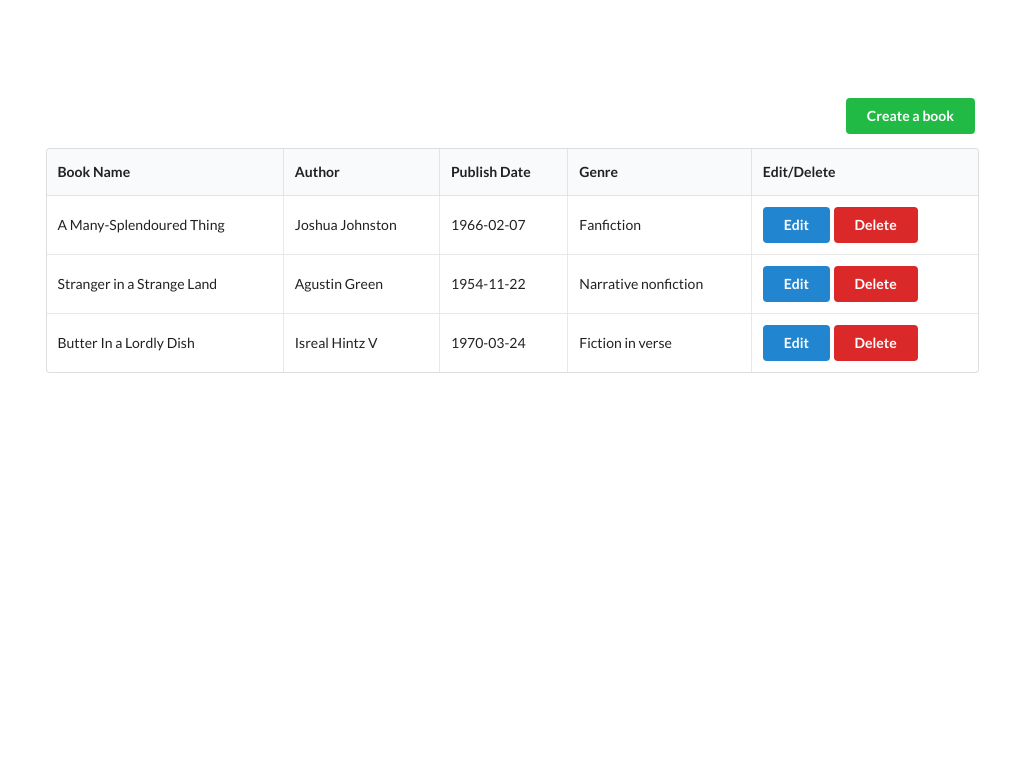
Test case: opens edit modal when edit button clicked with book data
What coordinates should you click on to do the following:
click the button "Edit" in the row of "A Many-Splendoured Thing"
I would click on:
 (796, 225)
Its box is [763,207,830,243].
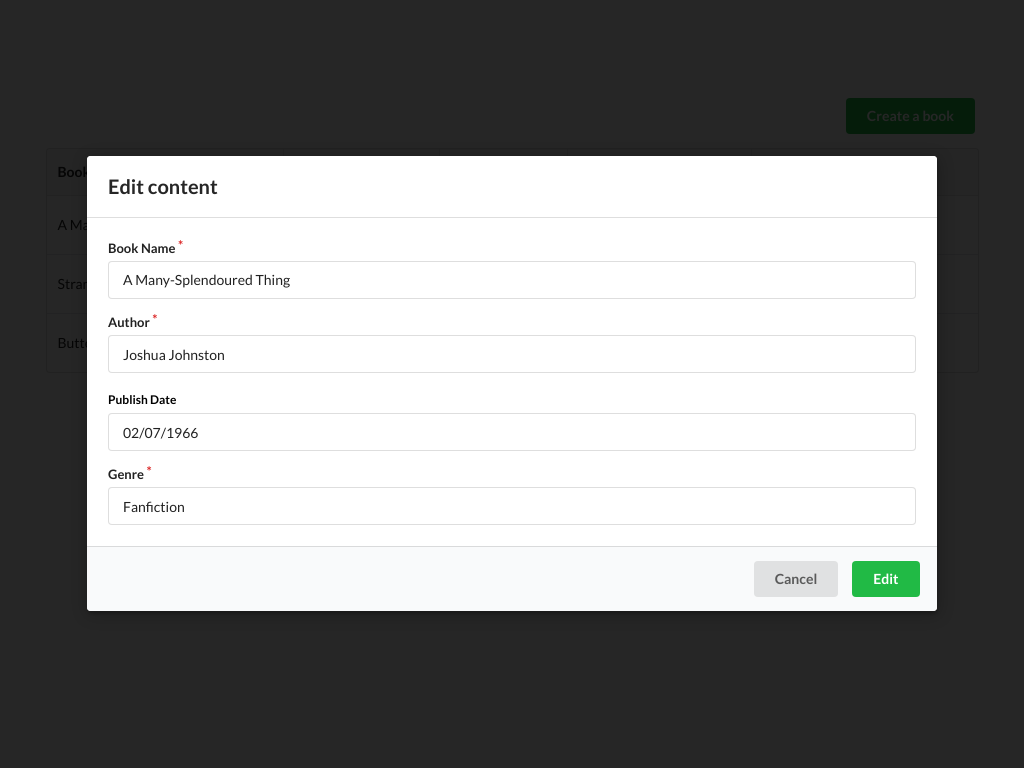
Expected: the 1st field with placeholder "Book Name" holds "A Many-Splendoured Thing", [108,261,916,299]
Expected: the number of elements with test id "input" is 4, [108,261,916,299]; [108,336,916,374]; [108,388,916,452]; [108,488,916,526]
